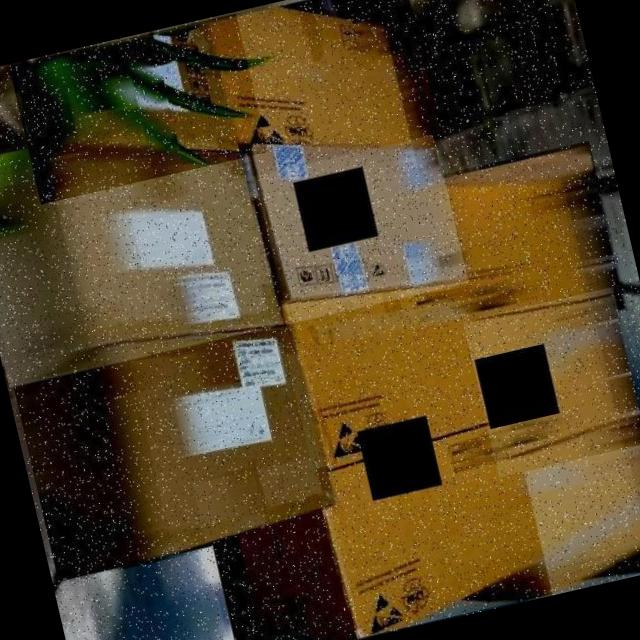box: (2, 298, 352, 586), (0, 95, 287, 387), (192, 411, 551, 640), (272, 250, 518, 482), (231, 97, 468, 327), (9, 13, 268, 204), (191, 0, 444, 182), (431, 140, 628, 347), (462, 286, 640, 477), (498, 413, 640, 599)
